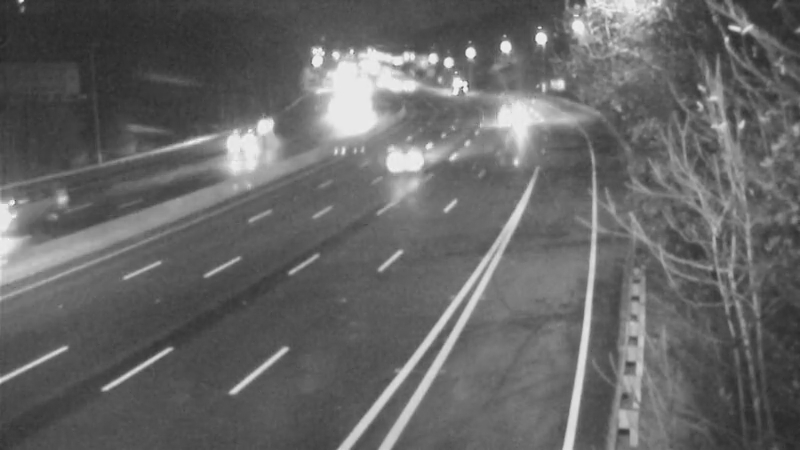vehicle: (364, 114, 444, 194), (1, 168, 65, 248), (436, 62, 486, 112), (483, 83, 533, 133), (218, 116, 268, 166), (240, 99, 290, 149)
